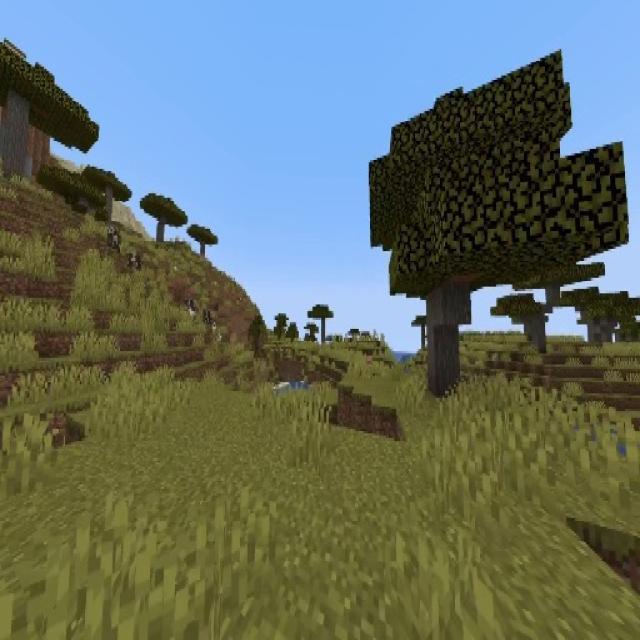acacia: (370, 52, 624, 397), (0, 34, 101, 182), (492, 253, 602, 354), (140, 193, 187, 247), (83, 168, 132, 218)
acacia_log: (426, 290, 460, 399), (2, 97, 30, 173)
